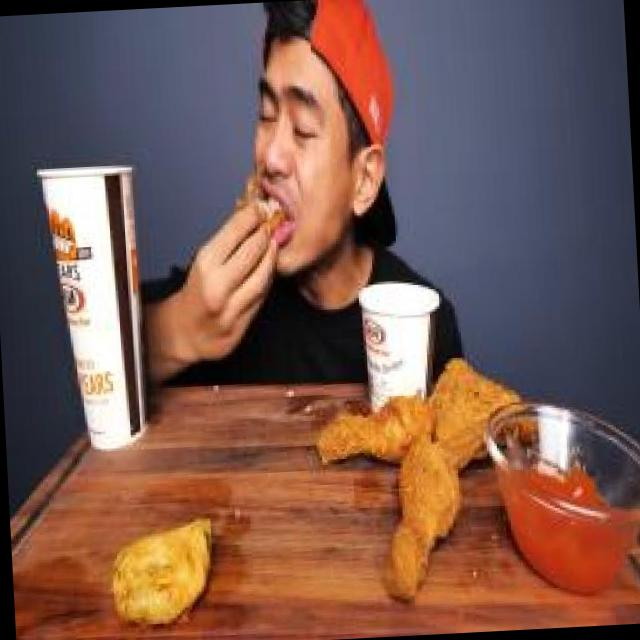AW cola: (26, 139, 158, 473)
crispy corn: (358, 270, 463, 423)
fried chicken: (312, 344, 532, 594)
perkedel: (94, 495, 226, 640)
